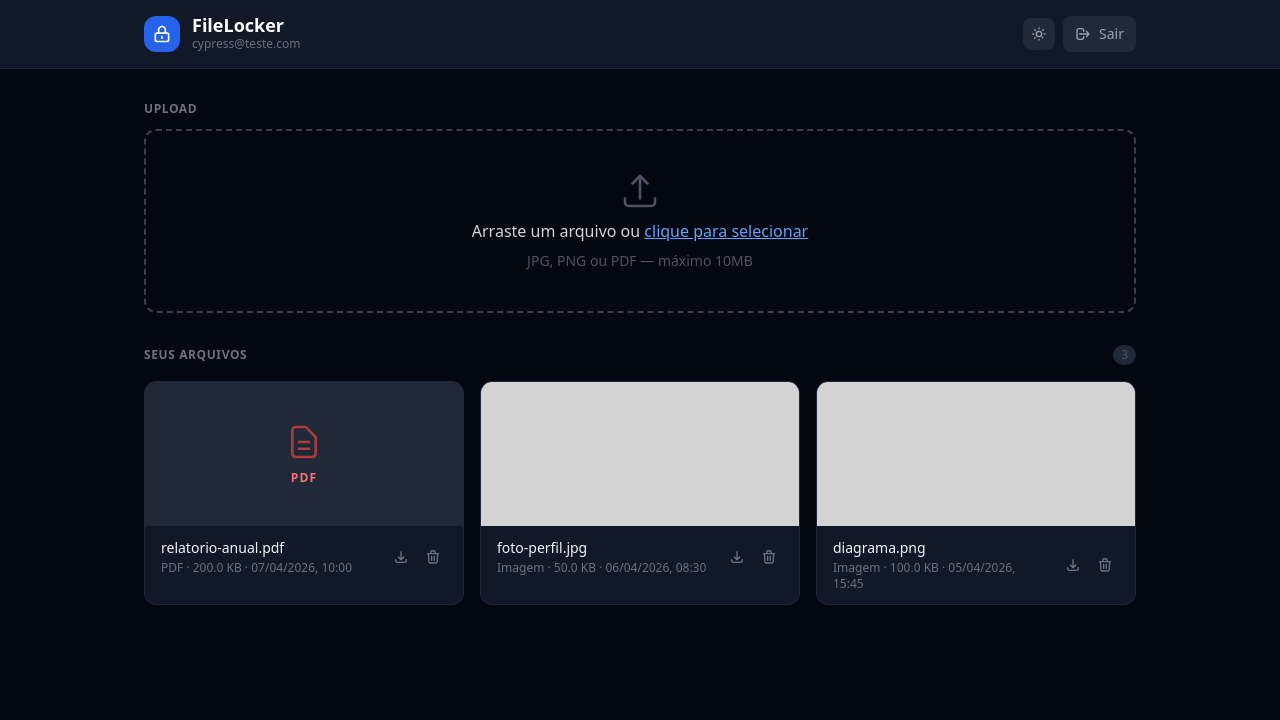
Test case: Listagem de Arquivos › should delete a file and remove it from the list
Click the button with test id "file-delete" next to "07/04/2026, 10:00" at (433, 557), box [419,543,447,571]
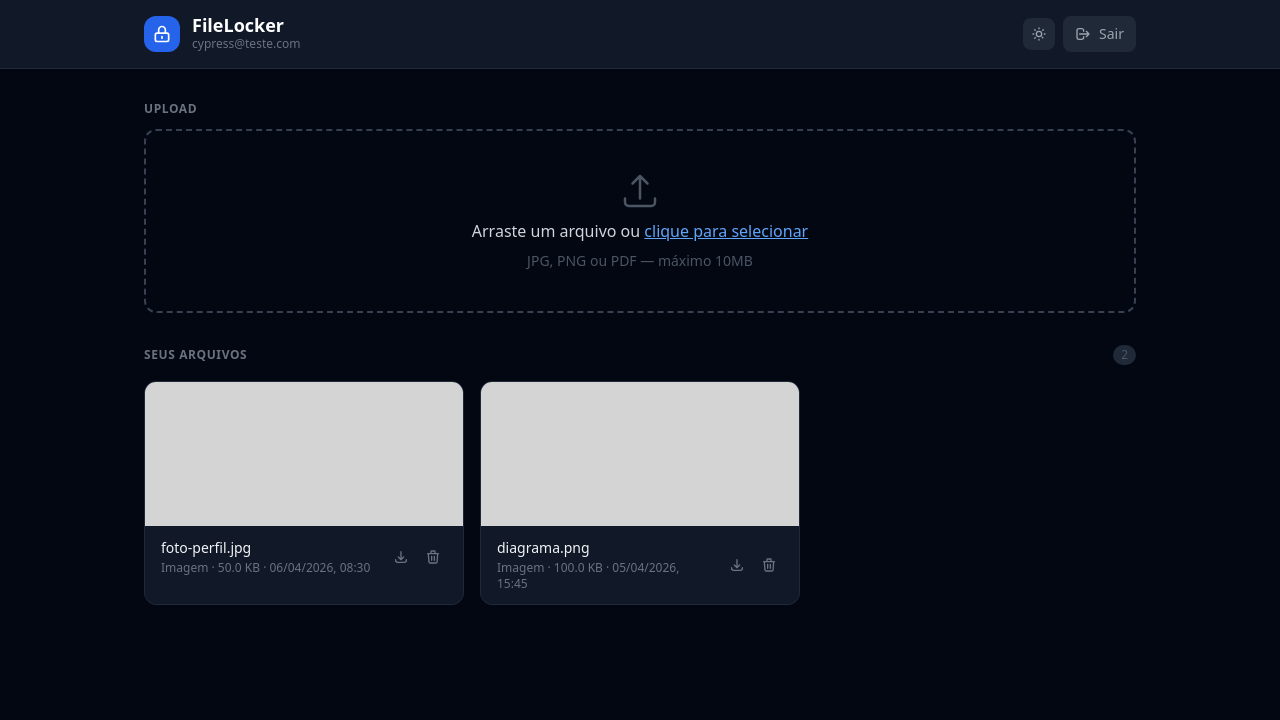
Now the text with test id "file-name" no longer shows "relatorio-anual.pdf"
